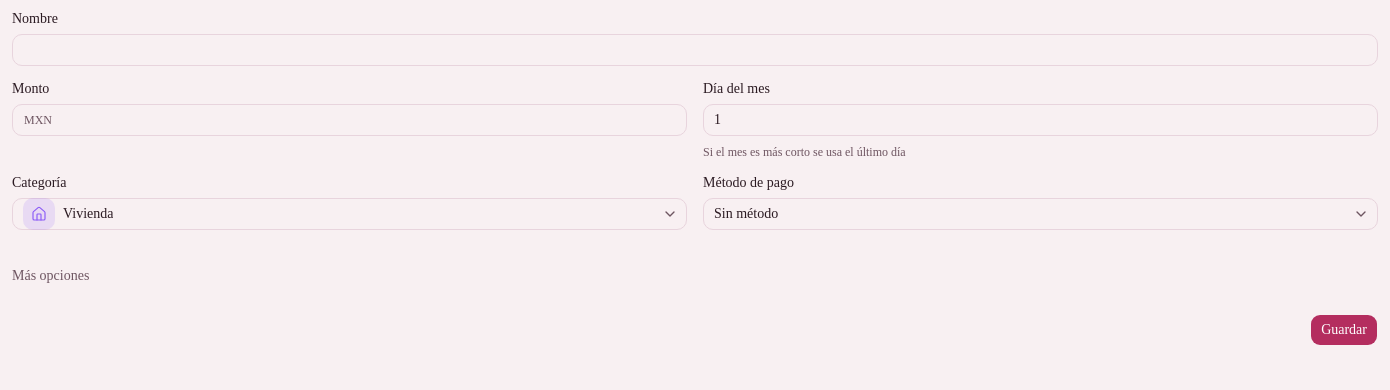
Test case: TemplateForm › validates the day of month
This screenshot has width=1390, height=390.
In the field labelled "Nombre": (695, 50) [12,34,1378,66], type "Renta"
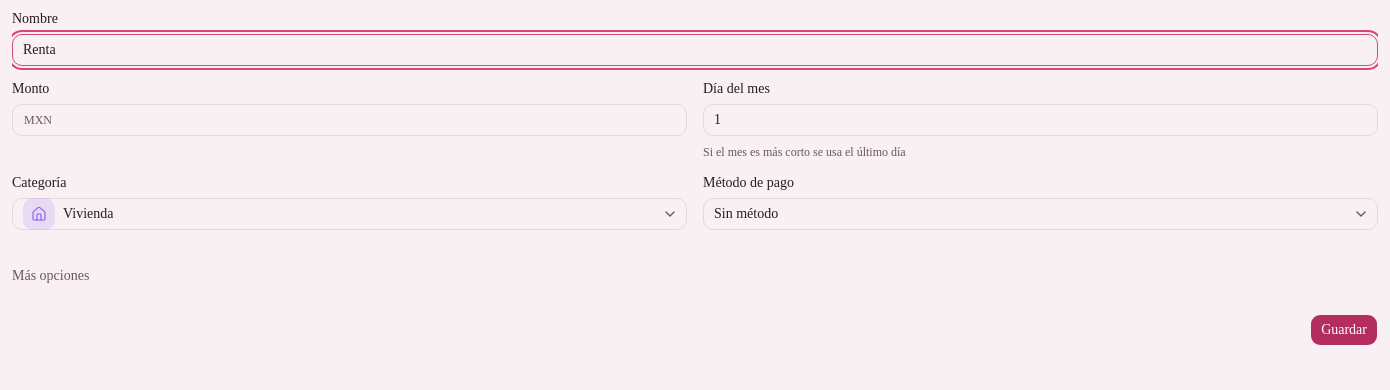
In the field labelled "Monto": (350, 120) [12,104,687,136], type "25000"
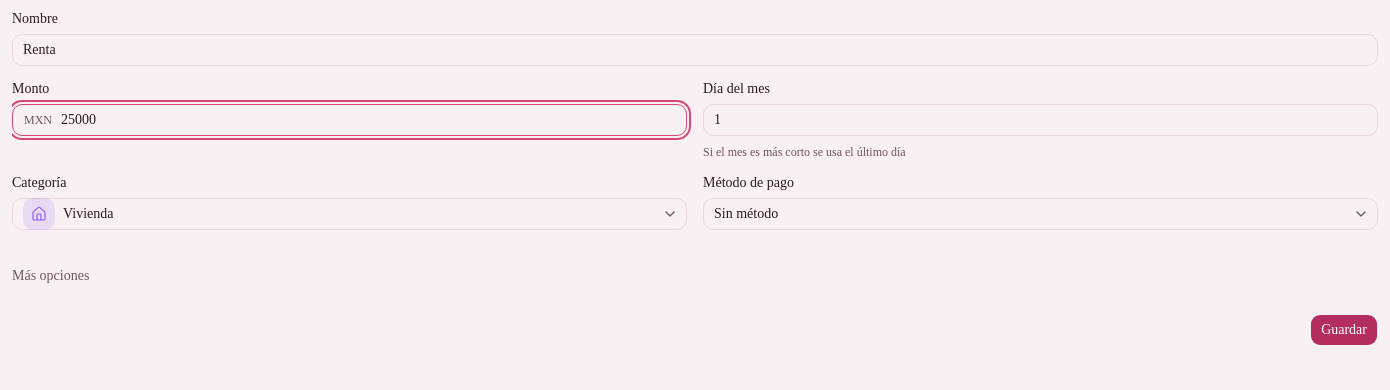
Replace the text in the number field labelled "Día del mes" with "32": (1040, 120) [703,104,1378,136]
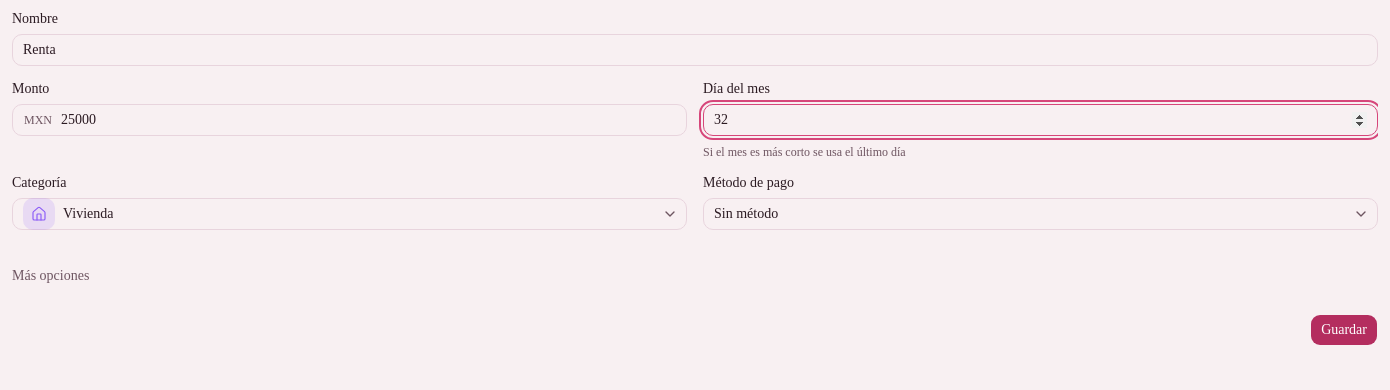
Click the button "Guardar": (1344, 330) [1310,314,1378,346]
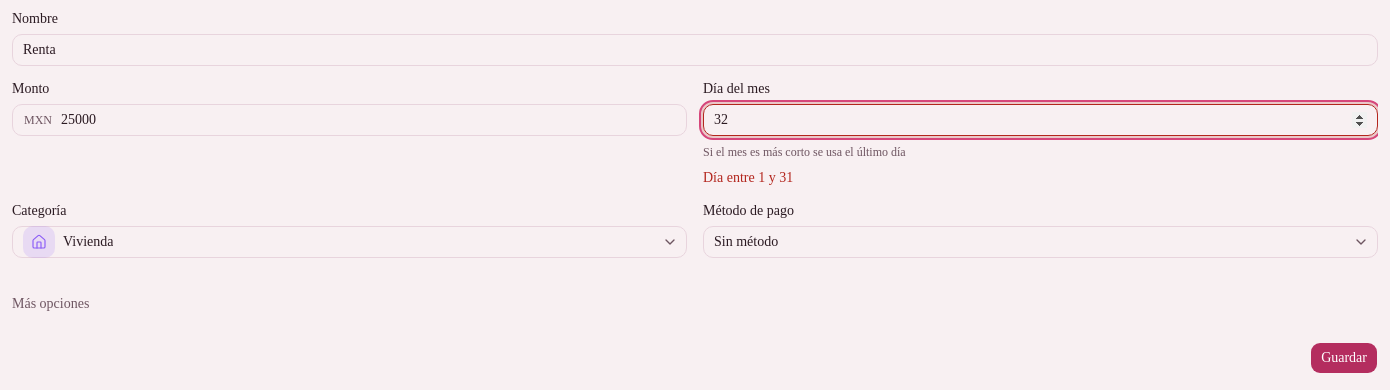
Check: the text "Día entre 1 y 31" is shown, box [703,170,793,185]
